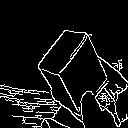cube: (37, 25, 114, 112)
